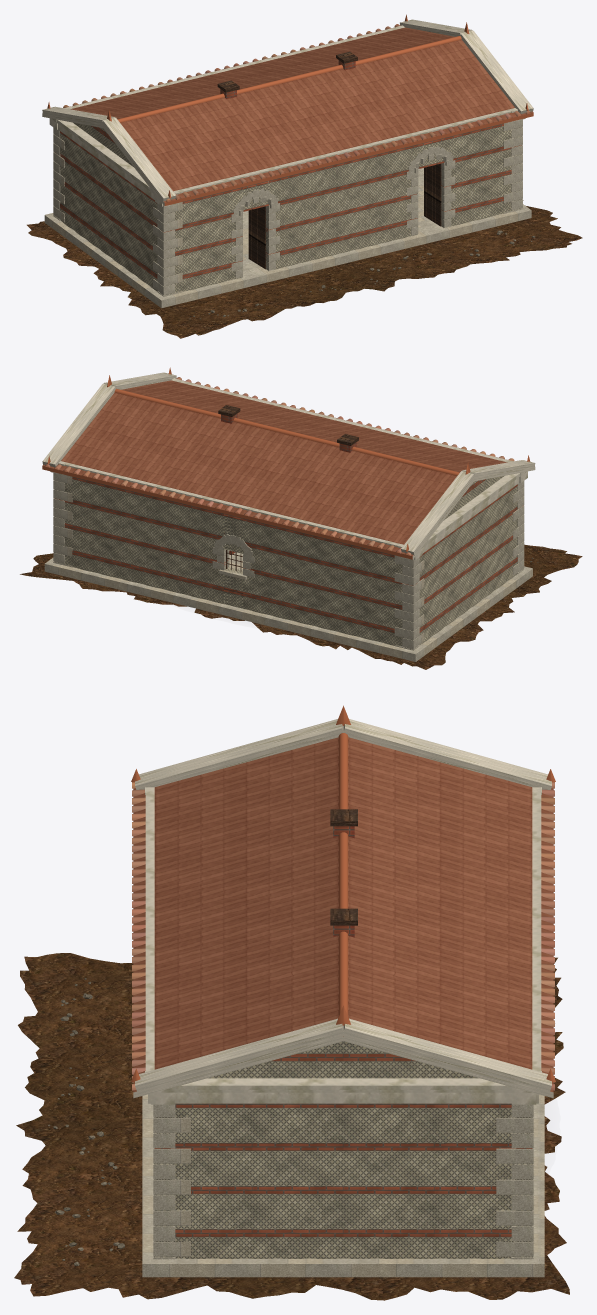
File: stable.glb
3 renders of one model, top to bottom at view 1: azimuth 30°, elevation 25°; view 2: azimuth 150°, elevation 25°; view 3: azimuth 270°, elevation 25°, orthographic. The views are drawn at different scales.
Visible parts, largest first — view 1: part_12, part_4, part_1, part_5, part_11, part_14, part_6, part_15; view 2: part_4, part_12, part_5, part_11, part_1, part_14, part_15, part_6; view 3: part_12, part_4, part_1, part_11, part_5, part_15, part_14, part_6, part_2.
Part boxes in pixels (bbox=[...]): part_12: bbox=[70, 27, 533, 202]; part_4: bbox=[54, 122, 521, 295]; part_1: bbox=[27, 200, 582, 338]; part_5: bbox=[44, 119, 531, 308]; part_11: bbox=[42, 19, 533, 206]; part_14: bbox=[47, 14, 533, 205]; part_6: bbox=[217, 51, 441, 269]; part_15: bbox=[63, 24, 531, 202]; part_4: bbox=[54, 476, 523, 649]; part_12: bbox=[42, 380, 507, 556]; part_5: bbox=[44, 473, 532, 661]; part_11: bbox=[42, 372, 535, 560]; part_1: bbox=[20, 544, 582, 669]; part_14: bbox=[42, 367, 530, 559]; part_15: bbox=[44, 377, 514, 555]; part_6: bbox=[218, 405, 358, 571]; part_12: bbox=[133, 737, 553, 1092]; part_4: bbox=[154, 1041, 532, 1258]; part_1: bbox=[14, 953, 569, 1300]; part_11: bbox=[133, 719, 553, 1104]; part_5: bbox=[142, 1094, 544, 1277]; part_15: bbox=[132, 782, 554, 1090]; part_14: bbox=[131, 705, 555, 1082]; part_6: bbox=[330, 809, 357, 925]; part_2: bbox=[48, 978, 124, 1265].
Bounding box in the file's own units: 10.12 × 3.65 × 6.97.
Materials: 16 (12 with a texture image).
